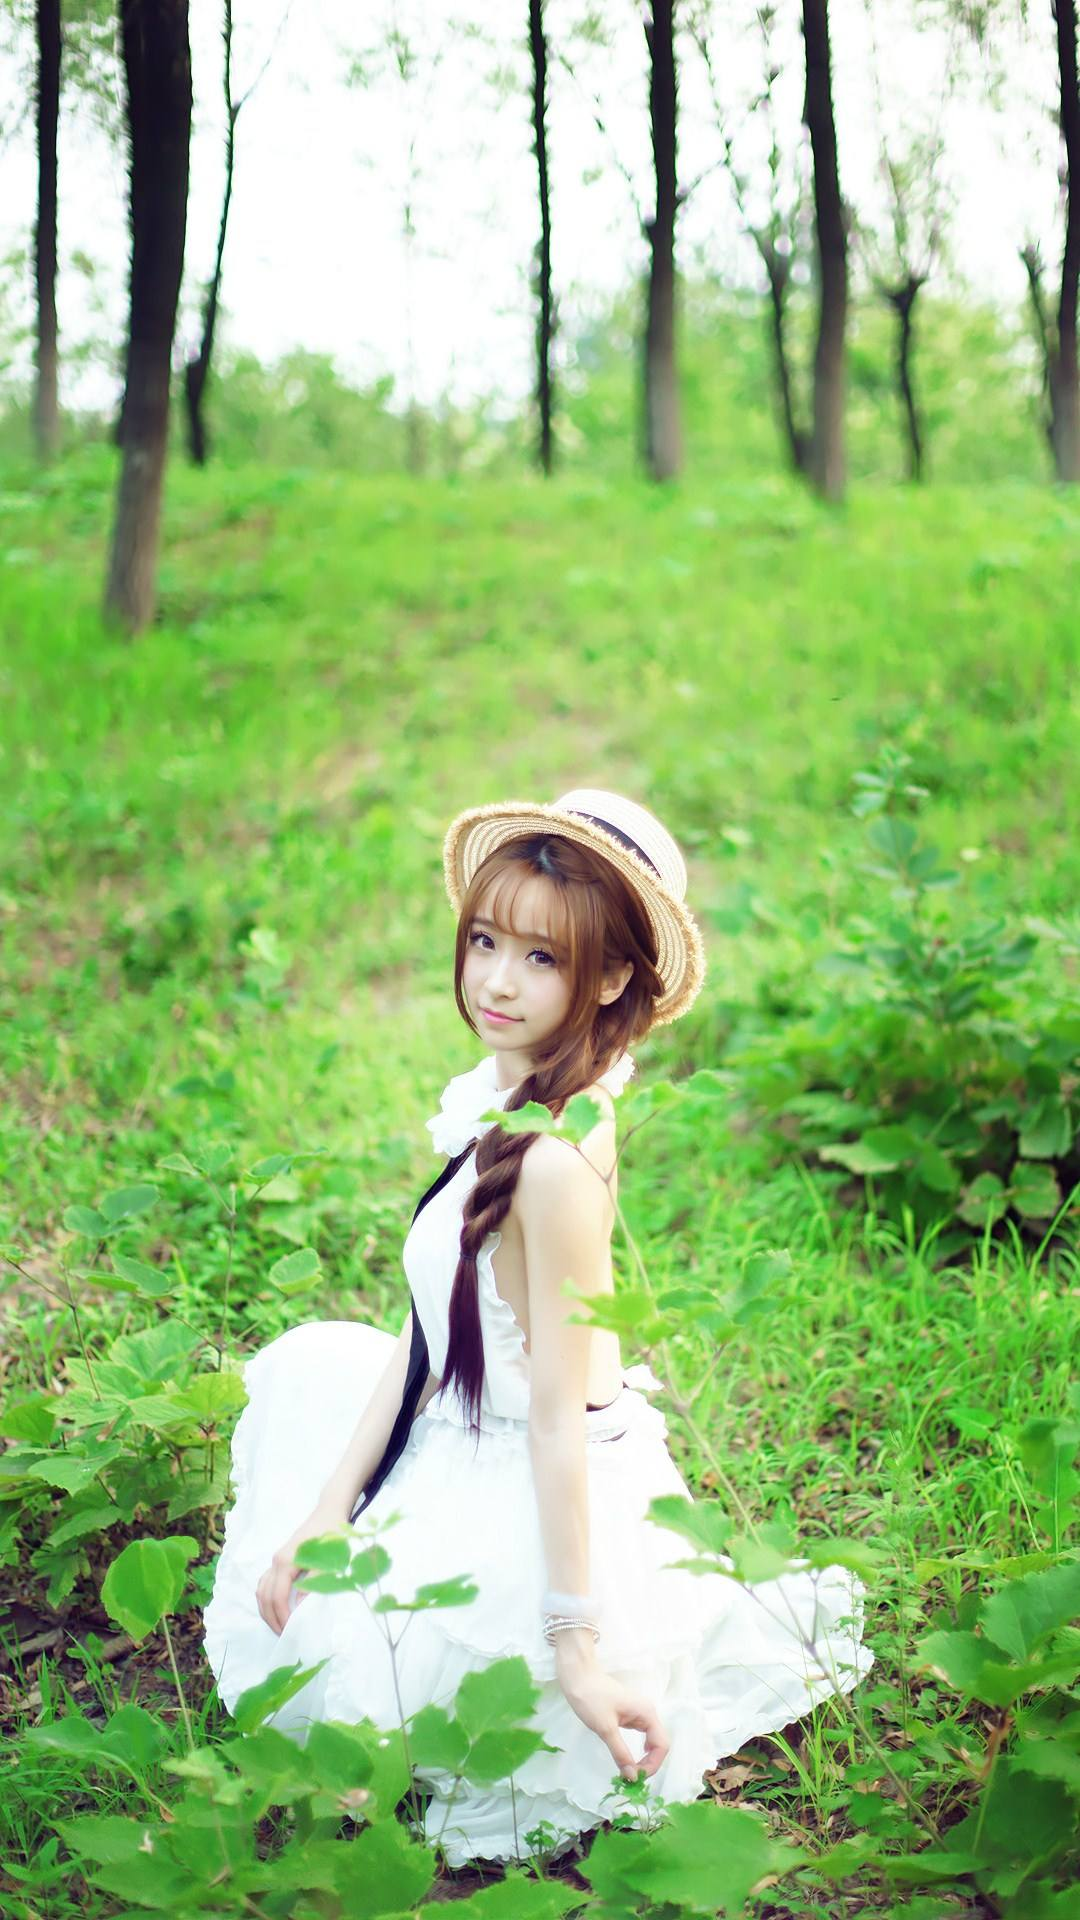person: (189, 680, 773, 1778)
